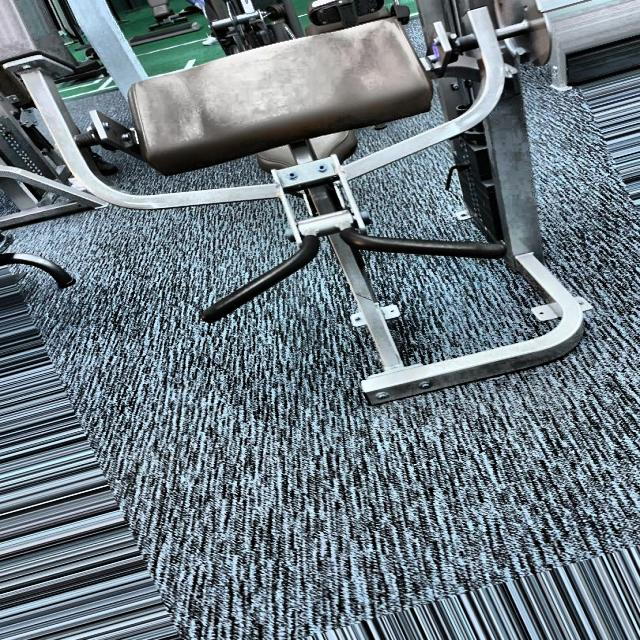bicep_curl_machine: (94, 13, 626, 446)
